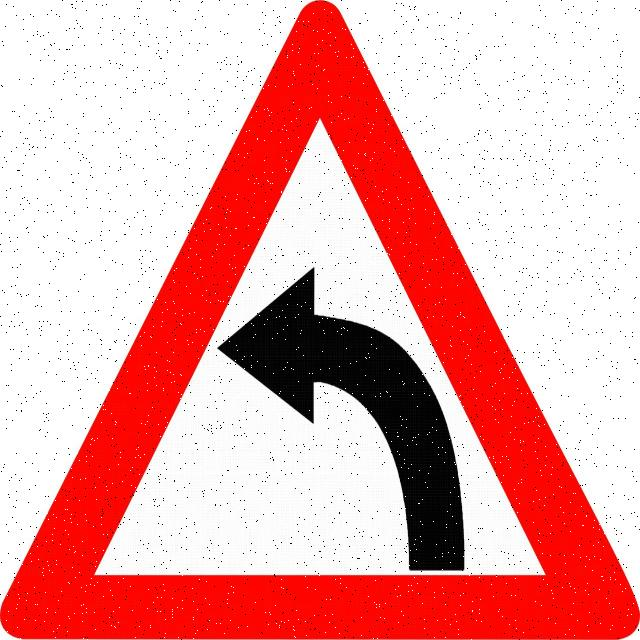left_hand_curve: (1, 0, 640, 586)
